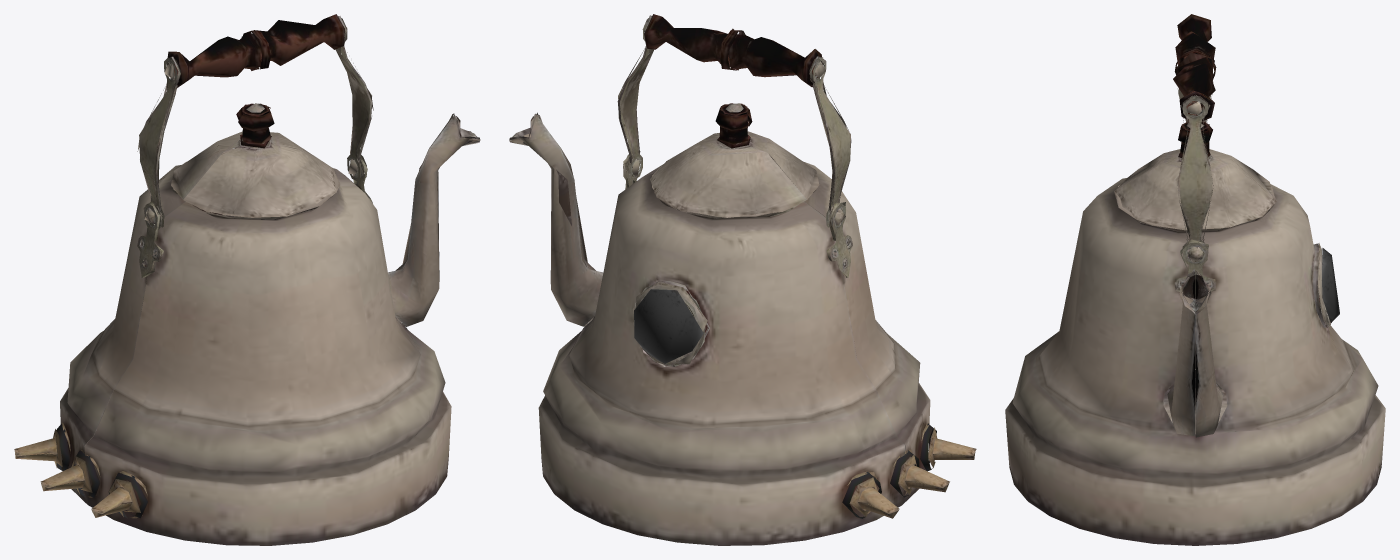
Rendered from obj_kettle.glb.
The picture shows the model from 3 angles, left to right: view 1: azimuth 30°, elevation 25°; view 2: azimuth 150°, elevation 25°; view 3: azimuth 270°, elevation 25°; orthographic projection. The views are drawn at different scales.
Visible parts, largest first — view 1: obj_kettle; view 2: obj_kettle; view 3: obj_kettle.
Boxes of the visible parts, left/top/right/bottom form: obj_kettle: left=14, top=14, right=480, bottom=545; obj_kettle: left=509, top=14, right=976, bottom=545; obj_kettle: left=1005, top=14, right=1385, bottom=545.
Size of the model in its own units: 0.3216 by 0.3052 by 0.2521.
Materials: 2 (2 with a texture image).
